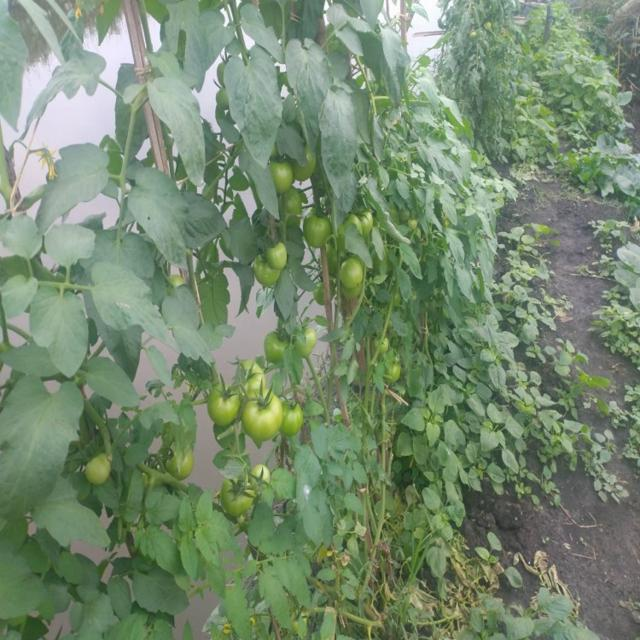tomato: (244, 391, 277, 439), (210, 382, 243, 426), (82, 453, 121, 489), (223, 475, 252, 517), (256, 257, 284, 289), (166, 450, 197, 477), (340, 256, 366, 288), (304, 217, 332, 245), (298, 322, 321, 356), (269, 159, 294, 189), (354, 205, 375, 240), (301, 148, 323, 178), (289, 397, 306, 431), (266, 327, 285, 357), (240, 359, 260, 387), (284, 191, 303, 218), (270, 246, 294, 267), (256, 463, 274, 487), (397, 212, 418, 232), (372, 336, 391, 357), (386, 363, 402, 383), (348, 281, 362, 303)
